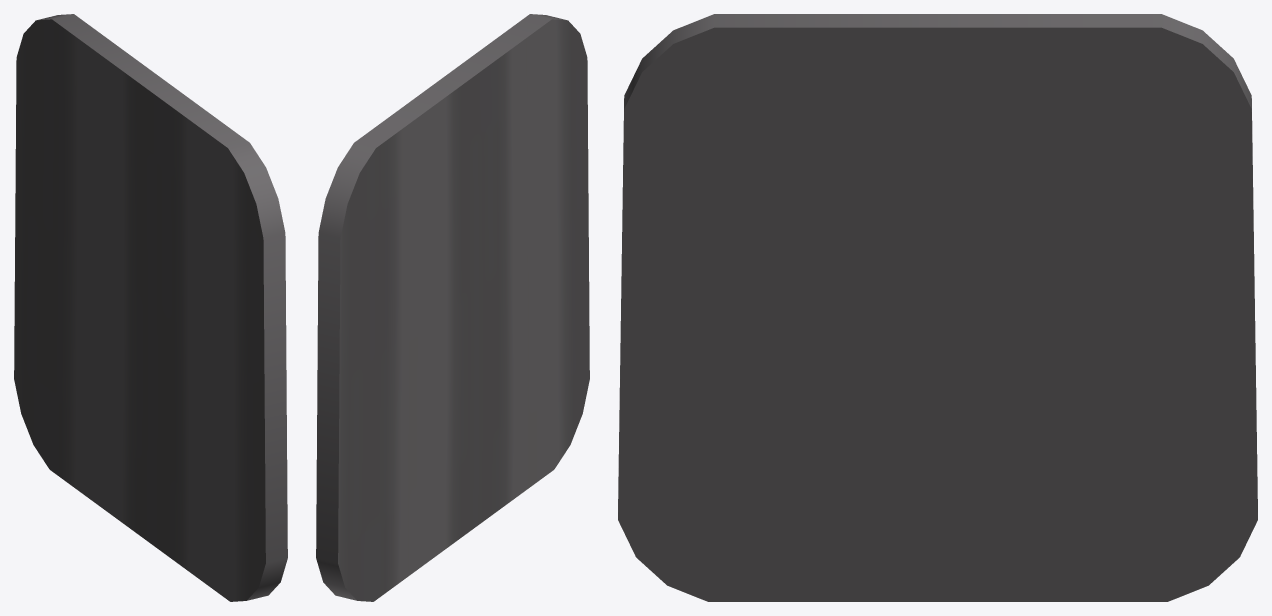
Rendered from Sign_39.fbx.
The picture shows the model from 3 angles, left to right: view 1: azimuth 30°, elevation 25°; view 2: azimuth 150°, elevation 25°; view 3: azimuth 270°, elevation 25°; orthographic projection. The views are drawn at different scales.
Parts seen in each view (by area): view 1: Sign_39; view 2: Sign_39; view 3: Sign_39.
Part boxes in pixels (x1,y1,x2,y2): Sign_39: (14, 14, 287, 601); Sign_39: (316, 14, 589, 601); Sign_39: (618, 14, 1257, 601).
Size of the model in its own units: 3.61 by 70.96 by 71.65.
